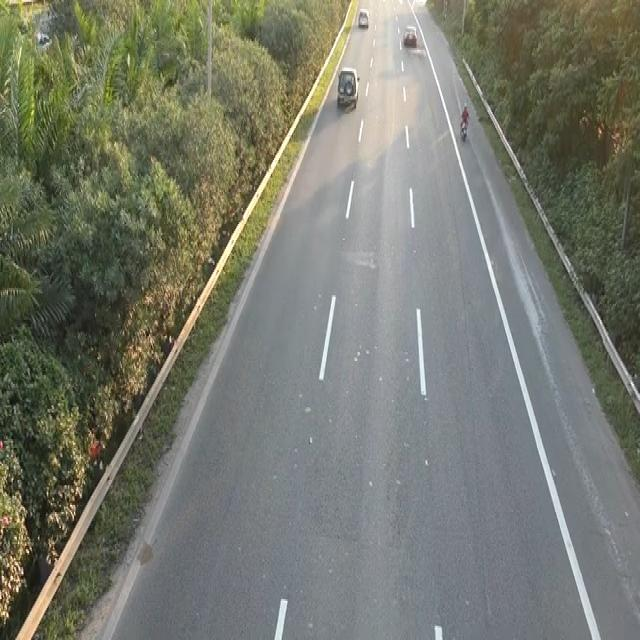bus: (402, 23, 417, 48), (357, 7, 369, 29)
car: (334, 62, 362, 116)
minibus: (458, 112, 469, 140)
